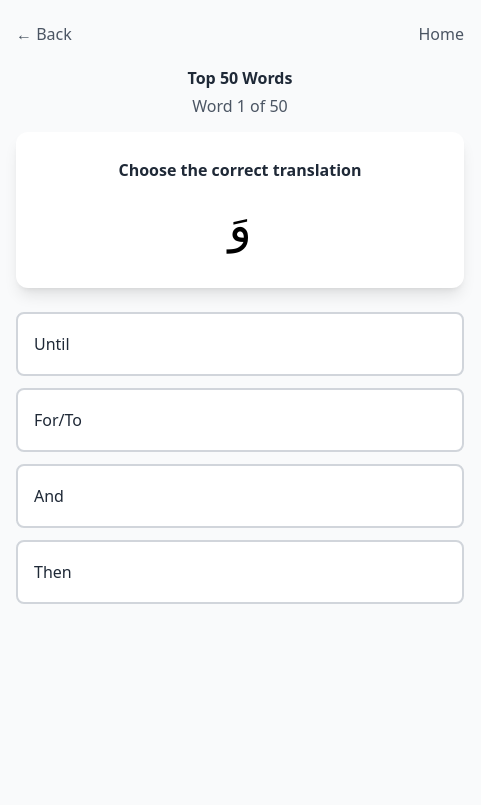
Test: Word Practice Page Integration Tests › Multiple Choice Questions › should show feedback when answer is selected
Click the button "And" at point(49, 496), box [16,464,464,528]
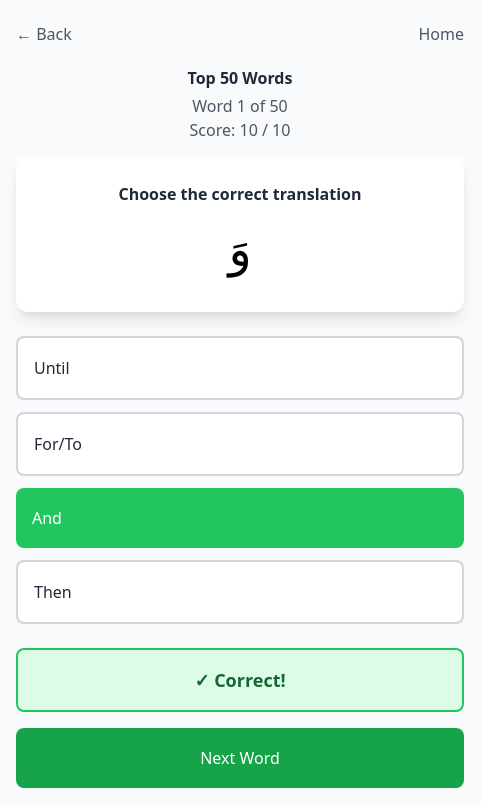
Expected: the text "✓ Correct!" is shown, [194,668,286,692]
